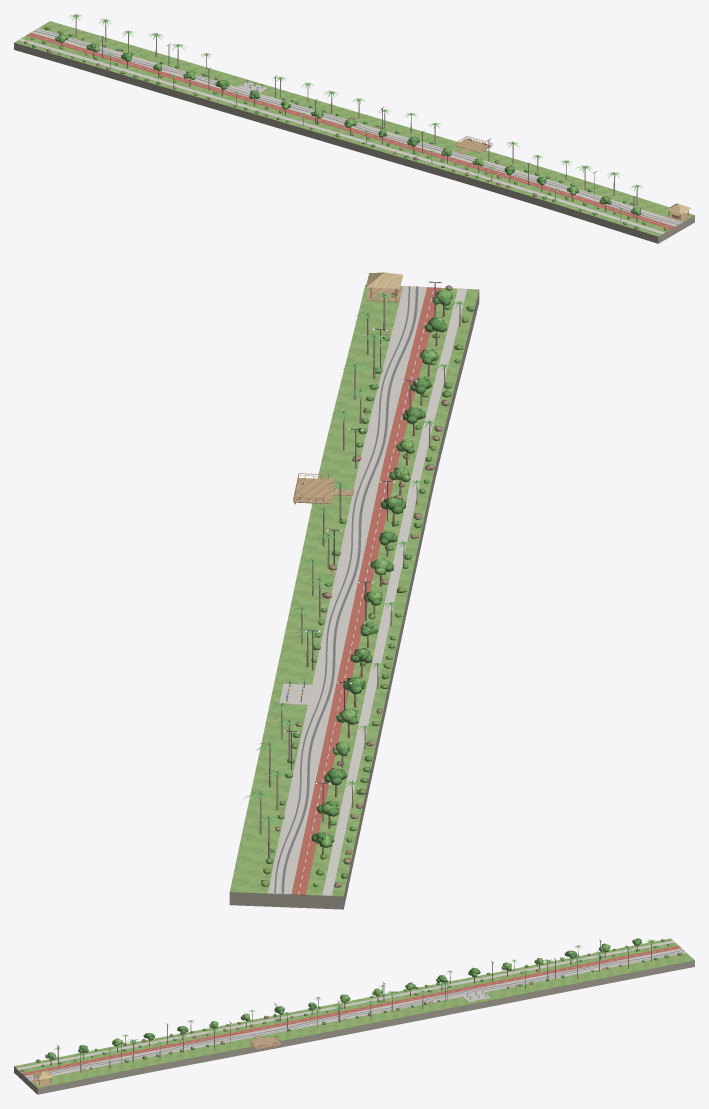
File: parque_02.glb
3 views of the same model, one above another, from view 1: azimuth 30°, elevation 25°; view 2: azimuth 150°, elevation 25°; view 3: azimuth 270°, elevation 25° (orthographic). The views are drawn at different scales.
Visible parts, largest first — view 1: parque_02; view 2: parque_02; view 3: parque_02.
Part boxes in pixels (x1,y1,x2,y2): parque_02: [14, 21, 694, 243]; parque_02: [229, 272, 479, 909]; parque_02: [14, 938, 694, 1094].
Bounding box in the file's own units: 148 × 13.4 × 285.
Materials: 25 (14 with a texture image).
